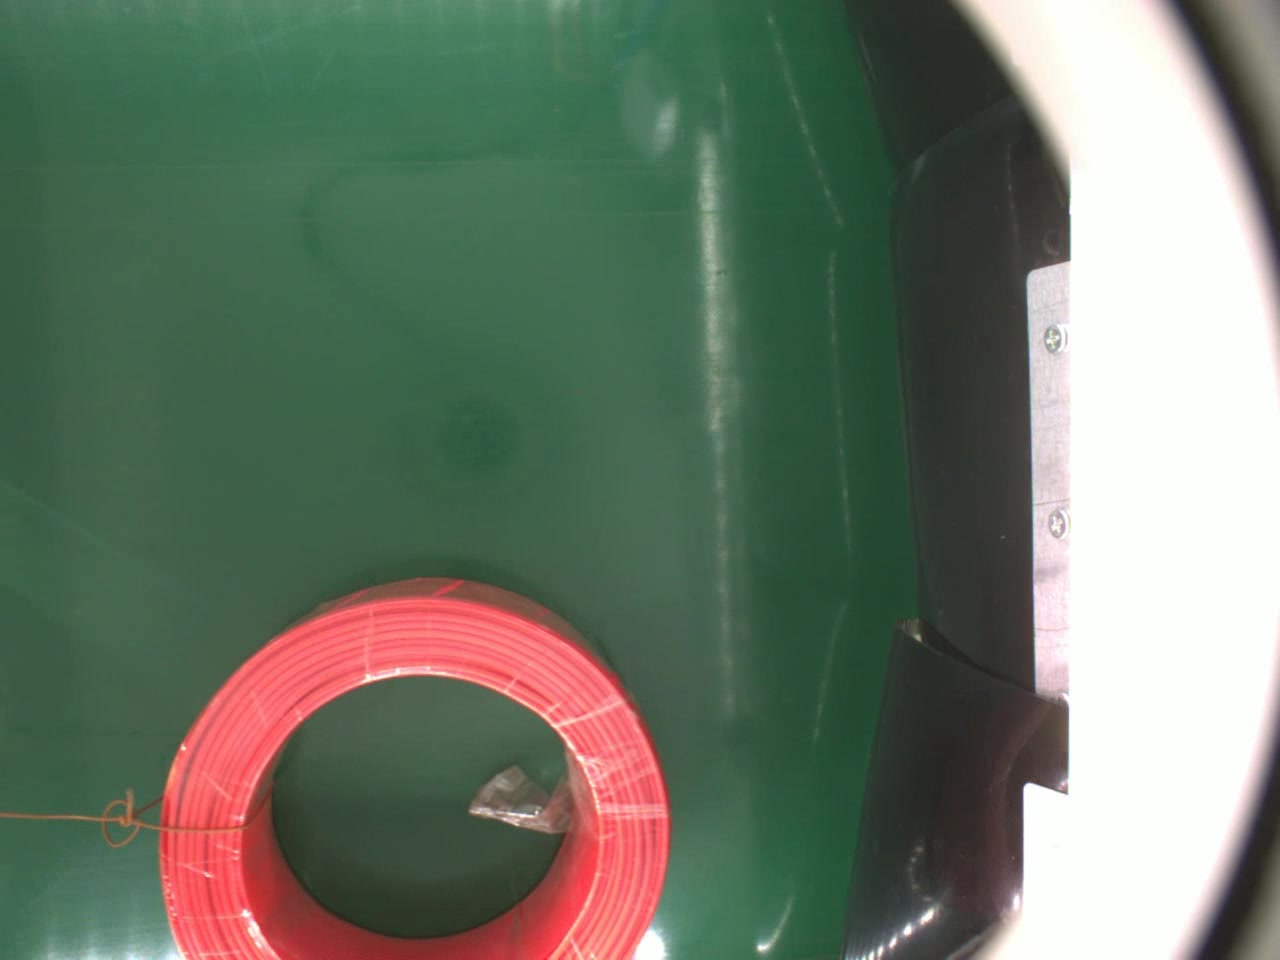red: (155, 573, 674, 960)
